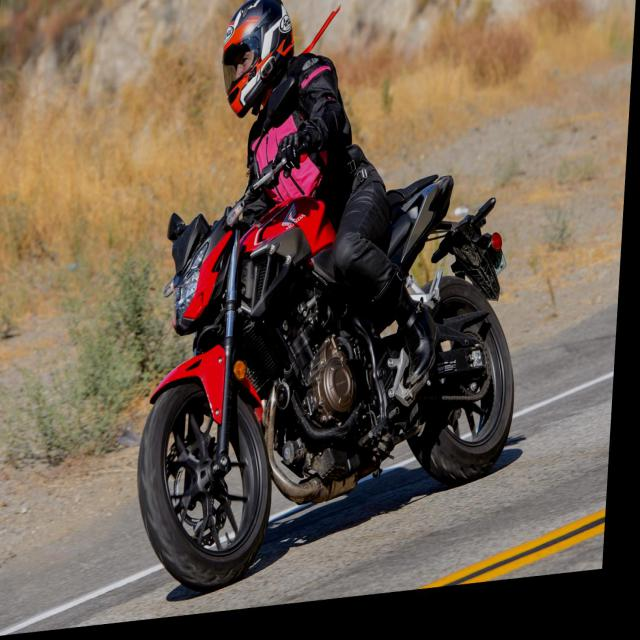CB500F: (138, 172, 538, 602)
